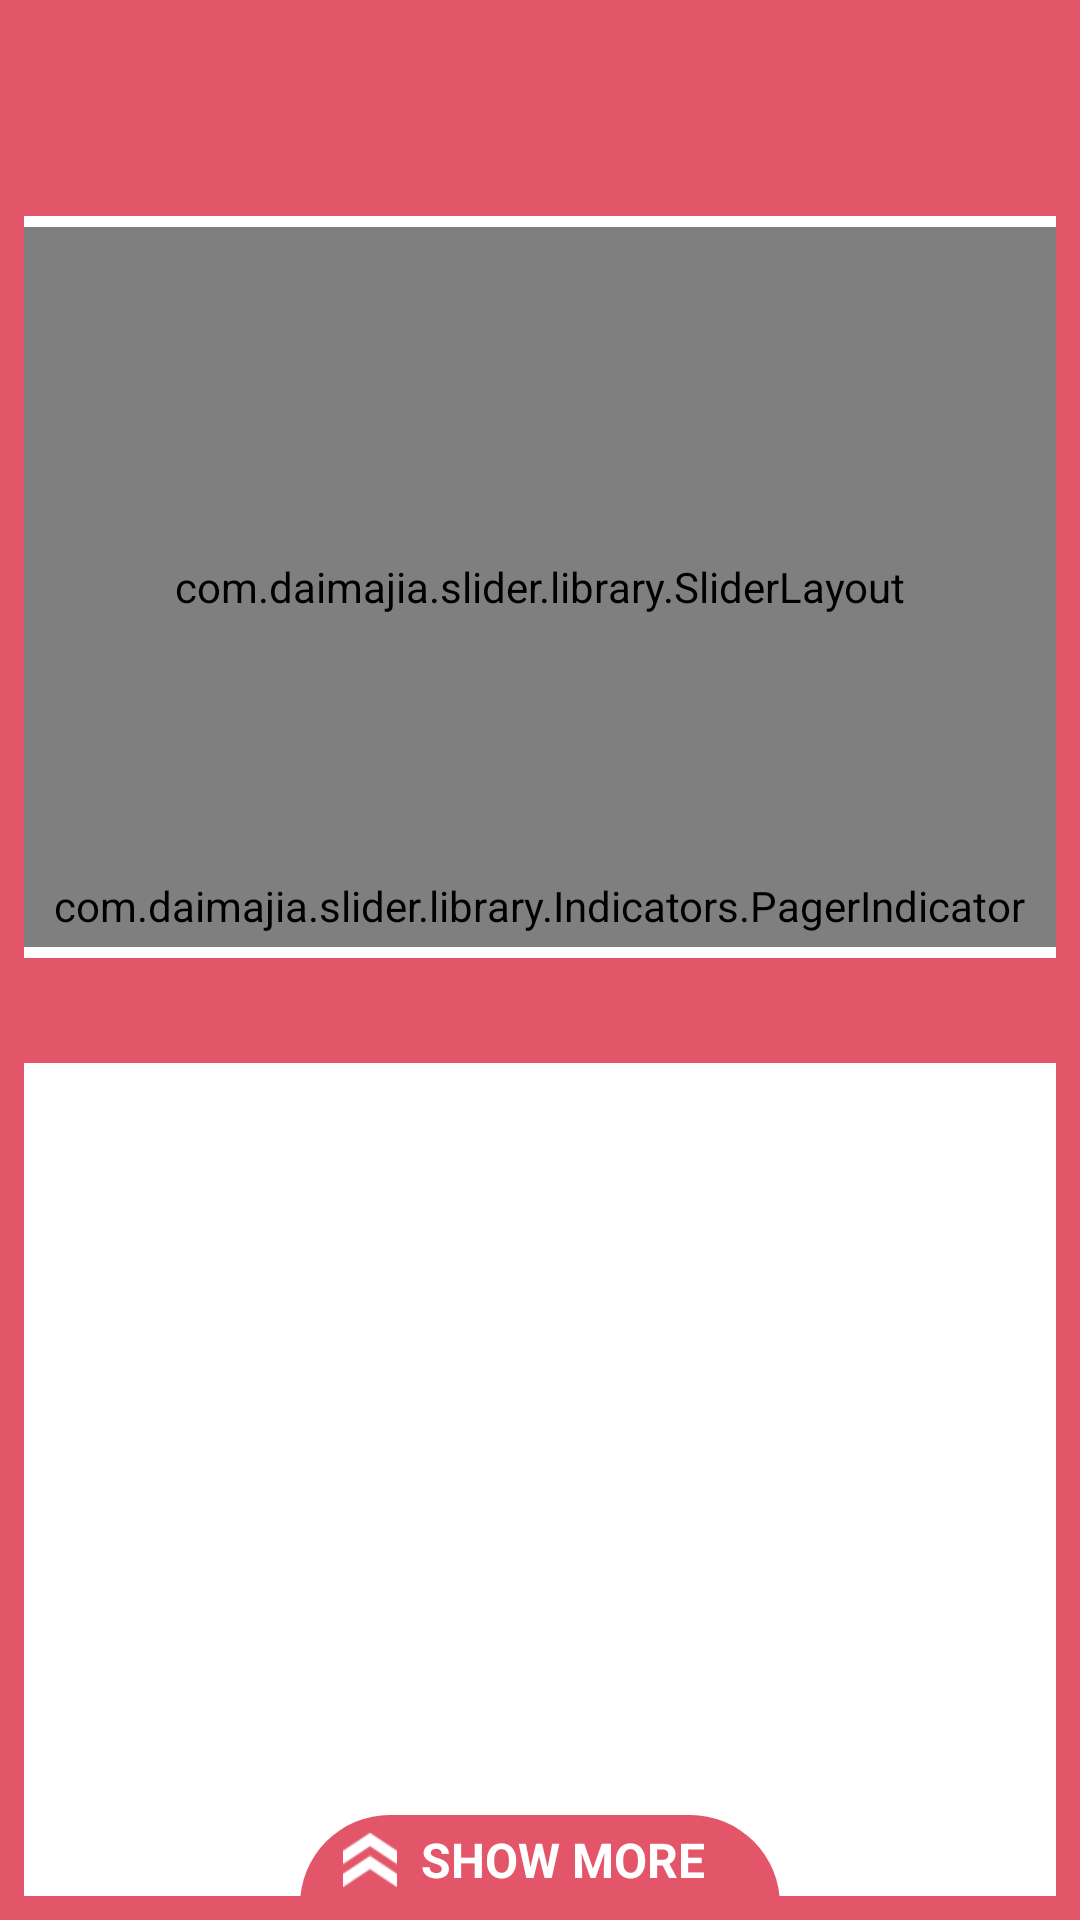

Icons on this 1080w x 1920h Android screen, each with the point to tap as (x=x, y=y):
upward arrow: (x=370, y=1860)
